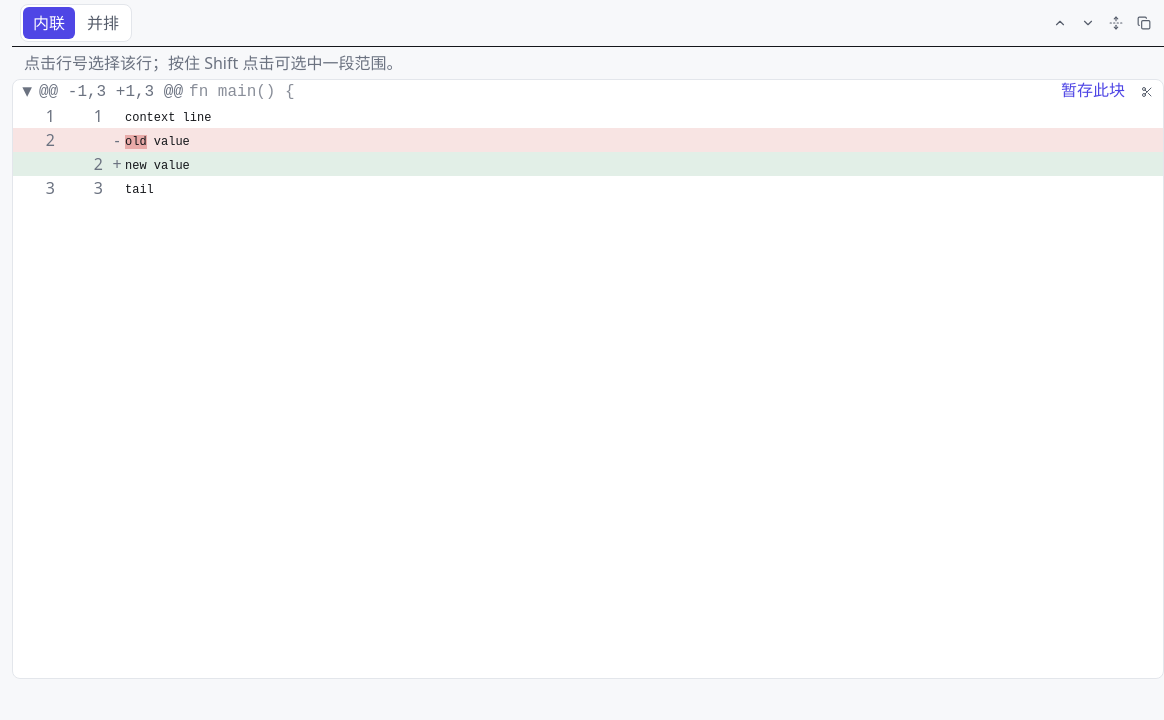
Test: DiffView 行级 / 块级选择 › 取消选中后操作条消失
What coordinates should you click on to do the following:
click the button named "选择第 2 行"
I would click on:
 (37, 140)
Its box is top-left (13, 128), bottom-right (61, 152).
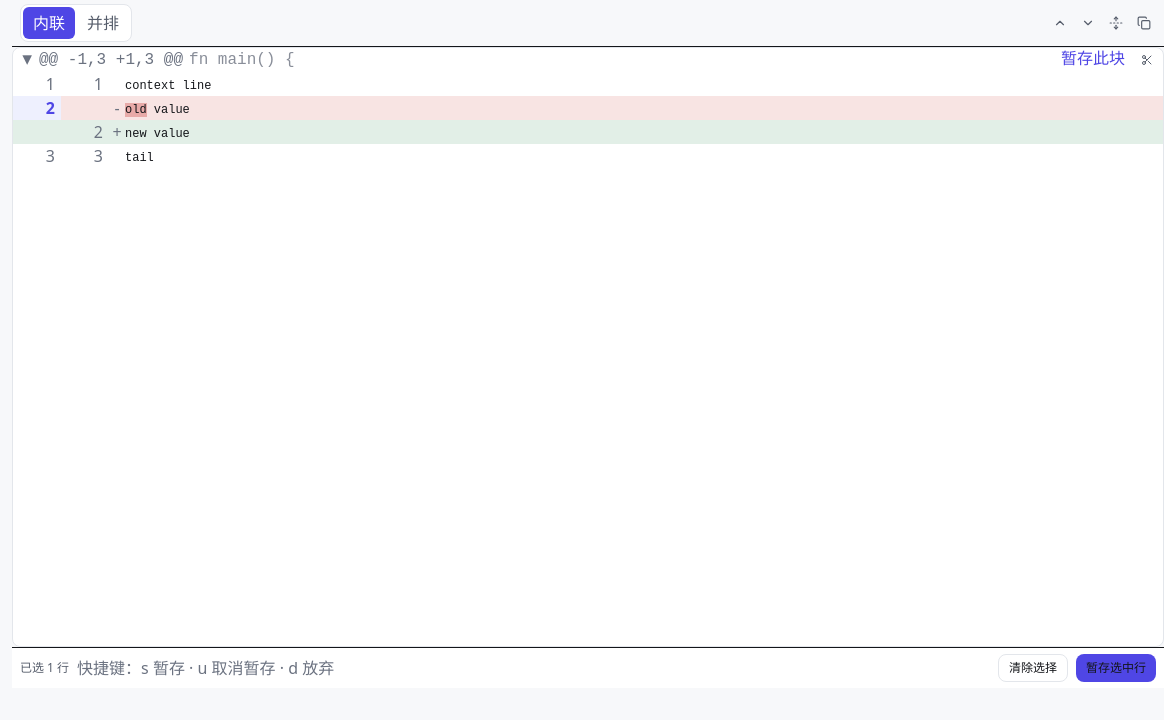
Result: the text "已选 1 行" is shown at top-left (20, 660), bottom-right (69, 676)
What coordinates should you click on to do the following:
click the button "清除选择"
I would click on:
 (1033, 668)
Its box is top-left (998, 654), bottom-right (1068, 682).
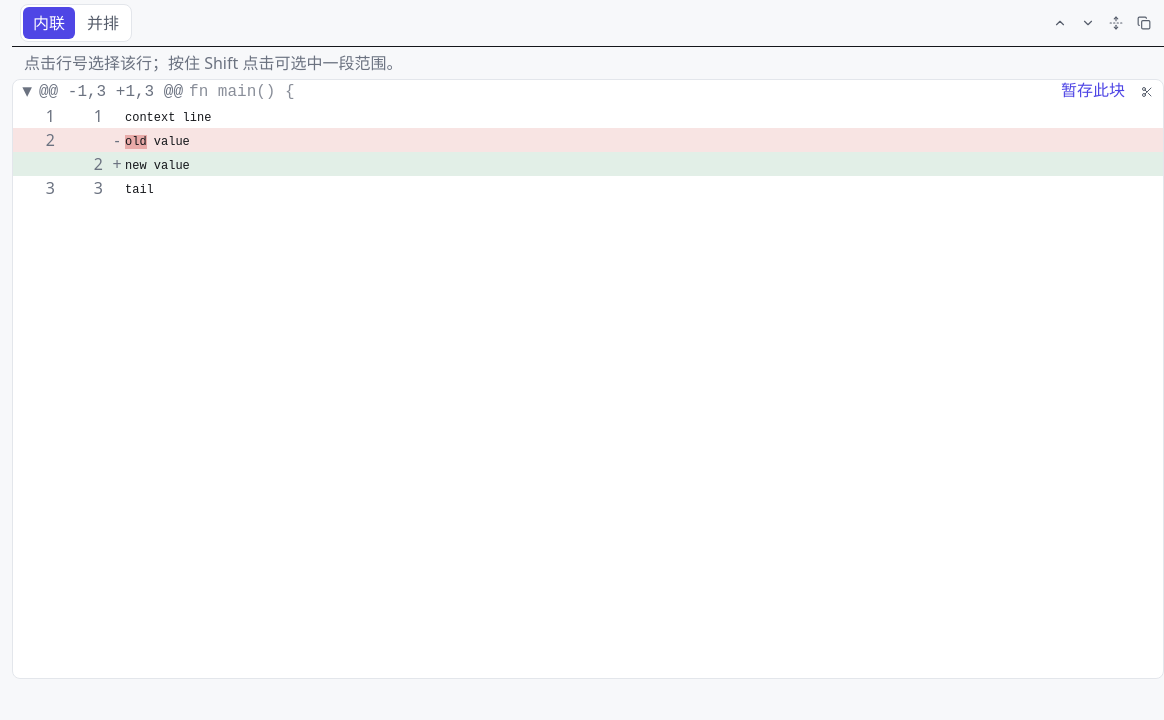
Result: the text "已选 1 行" is gone
